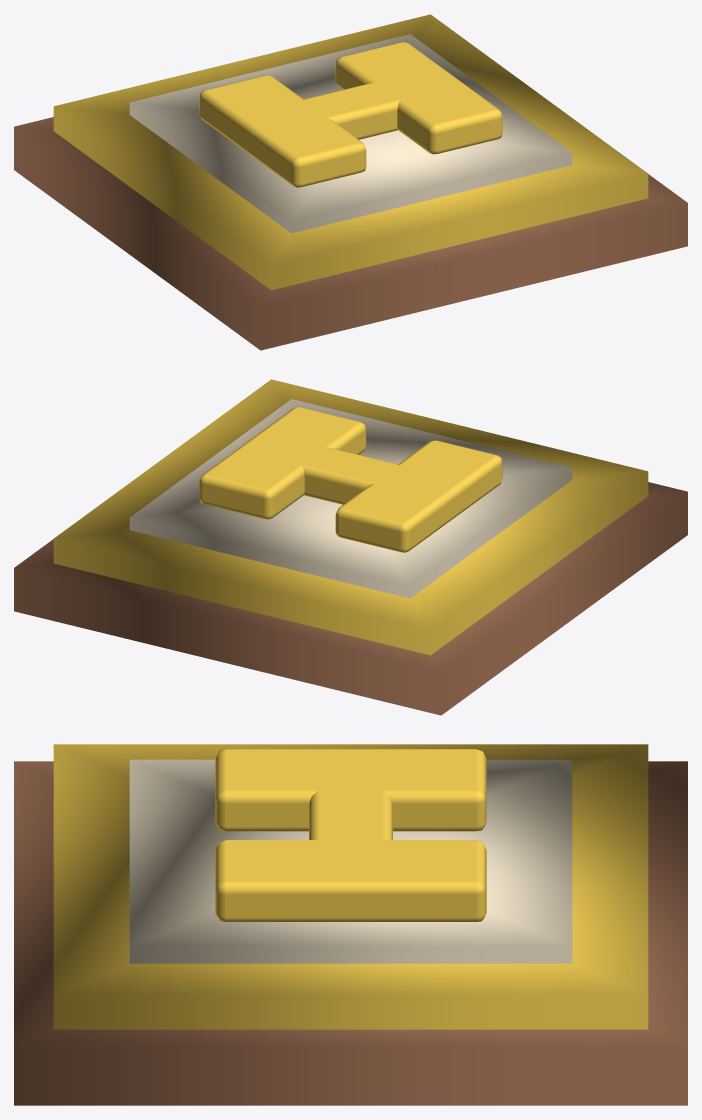
Rendered from pad_build.glb.
3 renders of one model, top to bottom at view 1: azimuth 30°, elevation 25°; view 2: azimuth 150°, elevation 25°; view 3: azimuth 270°, elevation 25°, orthographic. The views are drawn at different scales.
Parts seen in each view (by area): view 1: pad_build; view 2: pad_build; view 3: pad_build.
Boxes of the visible parts, x1,y1,x2,y2 form: pad_build: (14,14,687,350); pad_build: (14,379,687,715); pad_build: (14,744,687,1105).
Bounding box in the file's own units: 1.44 × 0.35 × 1.44.
